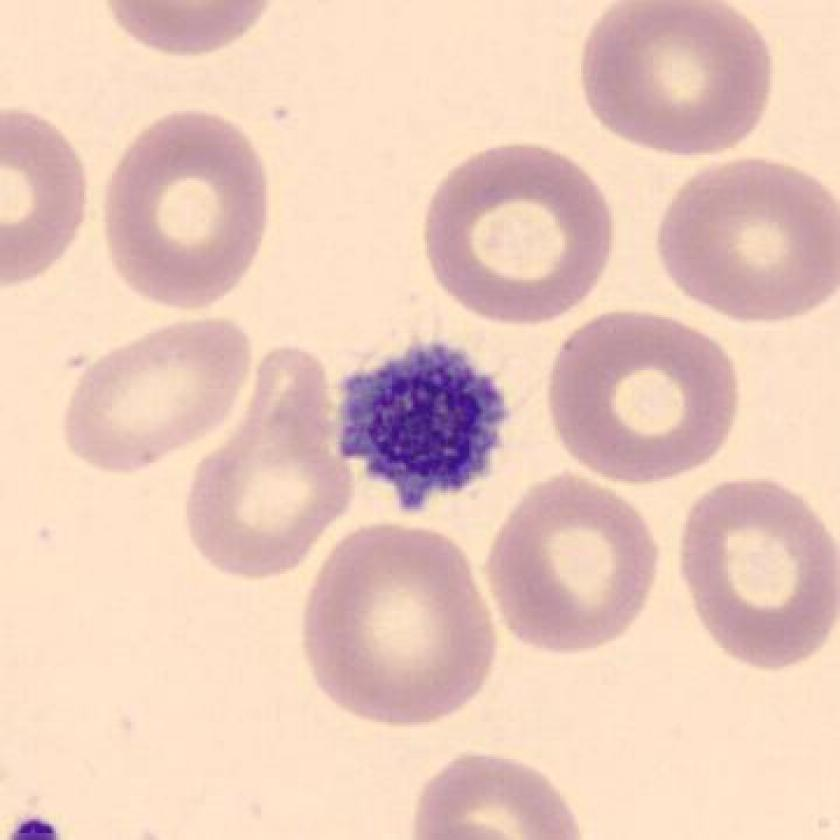platelets: (328, 337, 512, 520)
